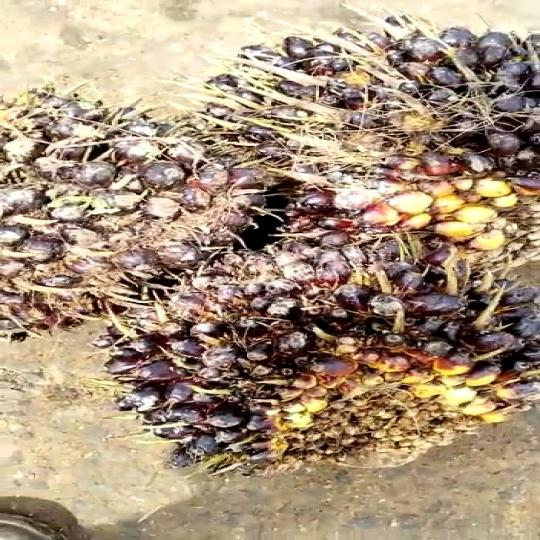mentah: (133, 219, 540, 476), (197, 24, 540, 246), (0, 83, 255, 328)
